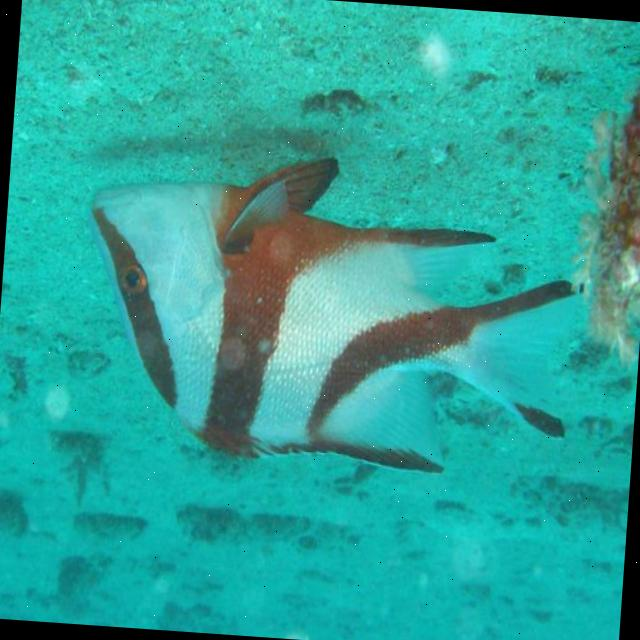ikan: (72, 139, 594, 489)
